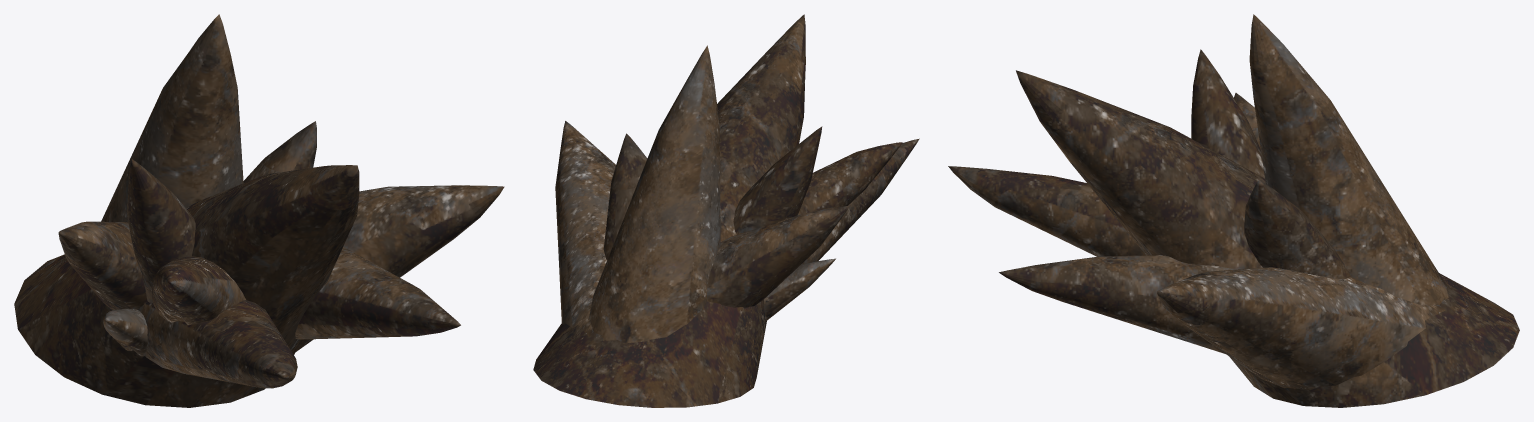
The model's file is vfx_Boss_GroundAttack.fbx.
The picture shows the model from 3 angles, left to right: view 1: azimuth 30°, elevation 25°; view 2: azimuth 150°, elevation 25°; view 3: azimuth 270°, elevation 25°; orthographic projection. The views are drawn at different scales.
Visible parts, largest first — view 1: vfx_Boss_GroundAttack; view 2: vfx_Boss_GroundAttack; view 3: vfx_Boss_GroundAttack.
Boxes of the visible parts, x1=… form: vfx_Boss_GroundAttack: x1=14, y1=14, x2=504, y2=407; vfx_Boss_GroundAttack: x1=533, y1=14, x2=919, y2=407; vfx_Boss_GroundAttack: x1=948, y1=14, x2=1519, y2=407.
Bounding box in the file's own units: 0.5552 × 0.5106 × 0.7483.
1 material, 1 textured.
